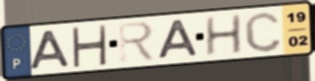A: (156, 18, 201, 61), (28, 28, 73, 71)
C: (242, 10, 284, 54)
H: (204, 13, 245, 58), (69, 24, 108, 68)
R: (116, 20, 158, 64)
